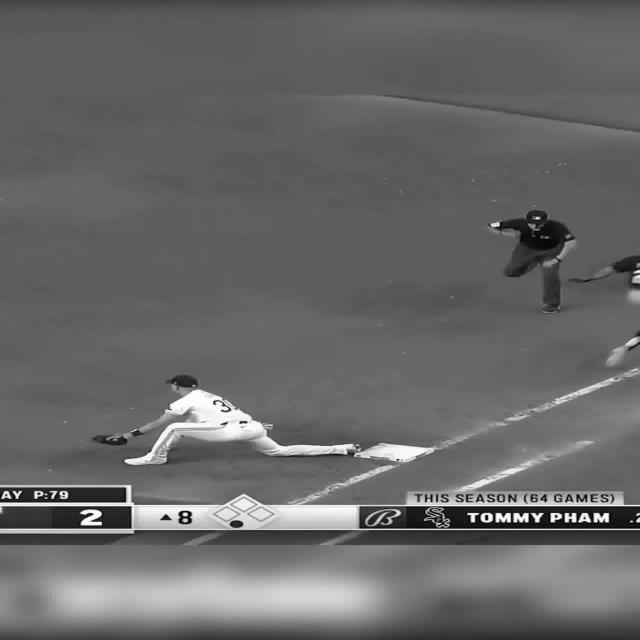base: (368, 442, 434, 463)
baseball_glove: (92, 434, 128, 445)
shoe: (123, 453, 167, 466), (604, 346, 626, 368), (346, 443, 362, 456), (541, 303, 559, 313)
